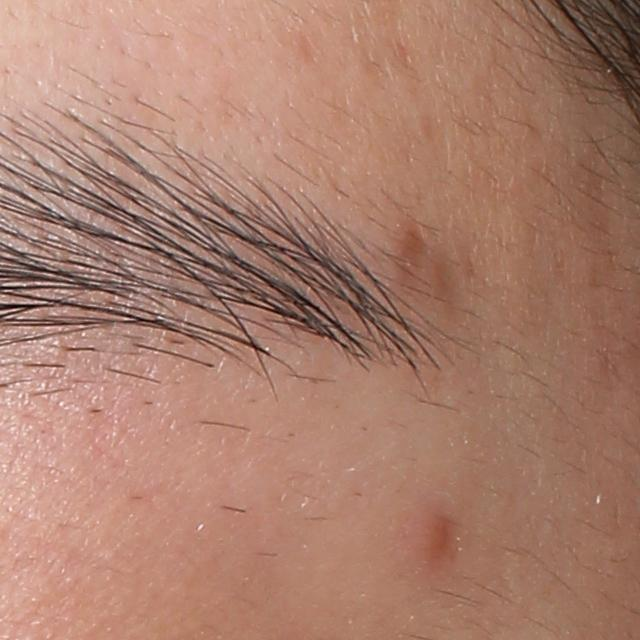papule: (404, 507, 462, 572)
